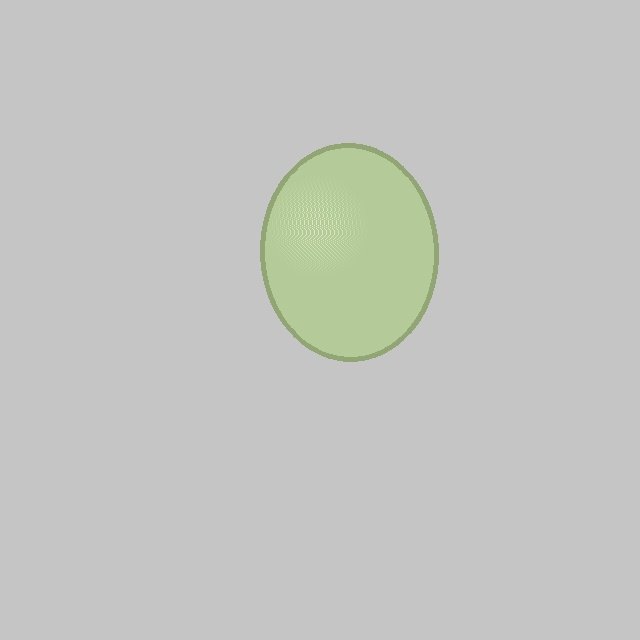lens: (262, 145, 436, 359)
